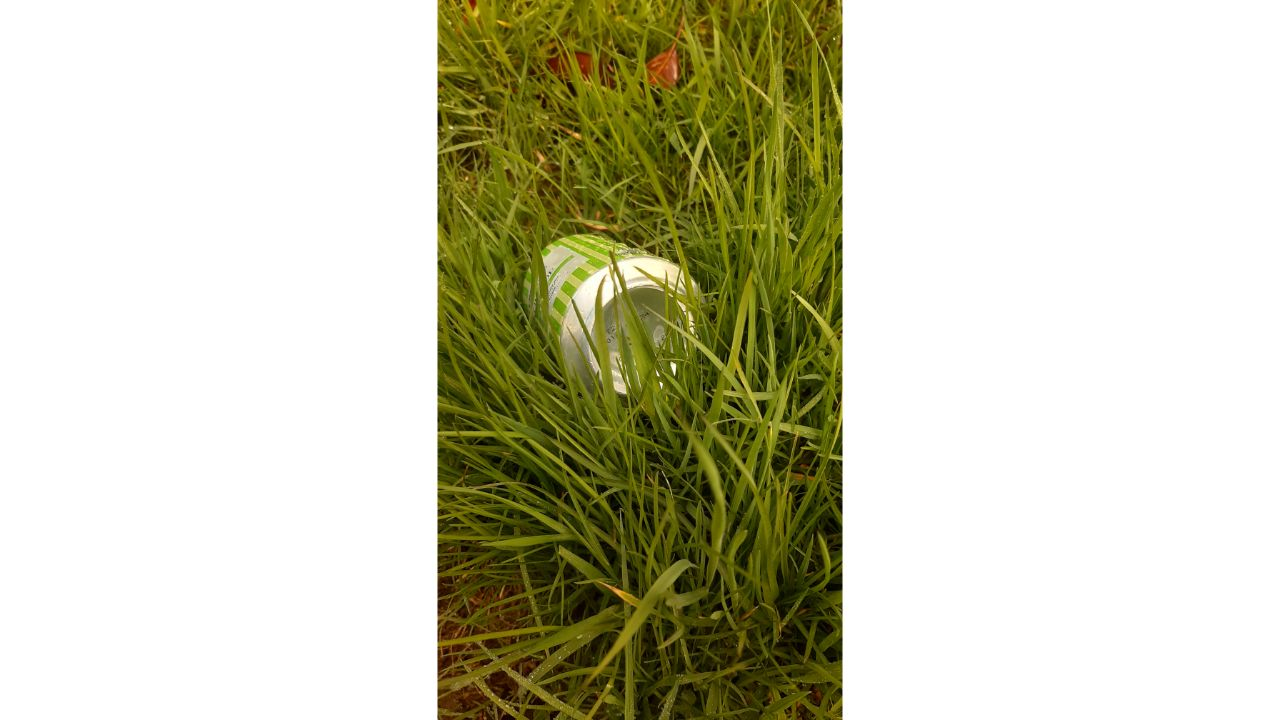Can: (512, 220, 718, 417)
